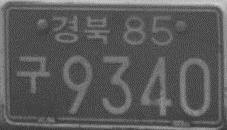0: (179, 56, 211, 117)
3: (101, 53, 133, 116)
4: (139, 55, 173, 116)
5: (151, 14, 173, 48)
8: (122, 15, 146, 47)
9: (60, 54, 93, 115)
경북_O: (50, 13, 110, 46)
구: (14, 53, 51, 95)
